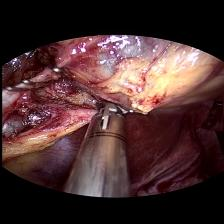Clipper: (88, 92, 128, 144)
Grasper: (200, 101, 222, 131)
